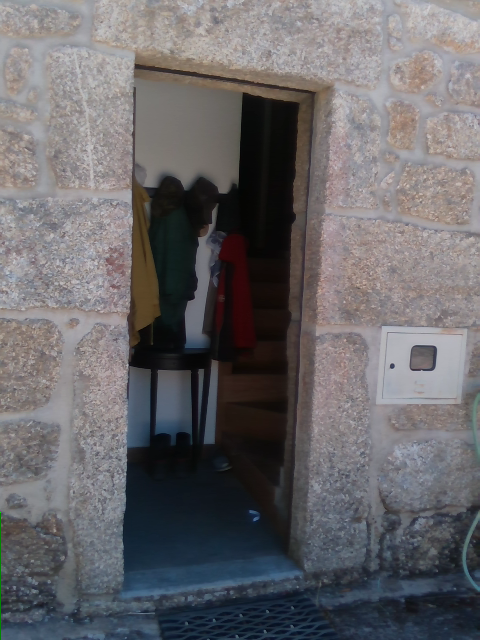open: (132, 48, 332, 570)
